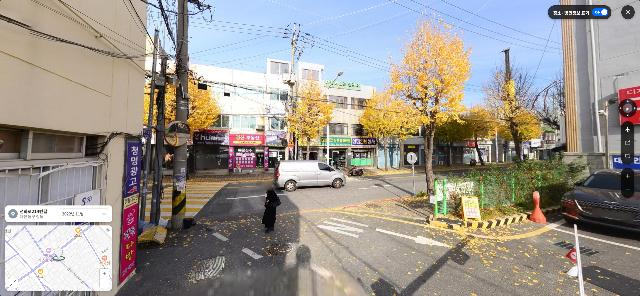ginkgo: (383, 6, 472, 195), (143, 62, 226, 179), (480, 51, 541, 162), (281, 65, 335, 160), (357, 85, 406, 171), (460, 100, 497, 165), (436, 111, 477, 167), (394, 97, 423, 168)
